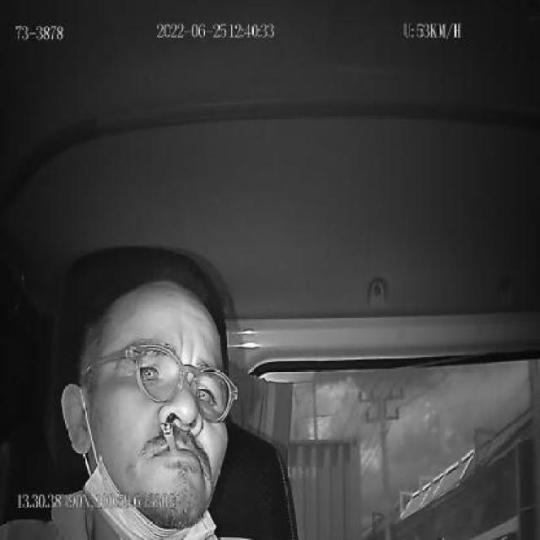smoking: (157, 418, 181, 456)
